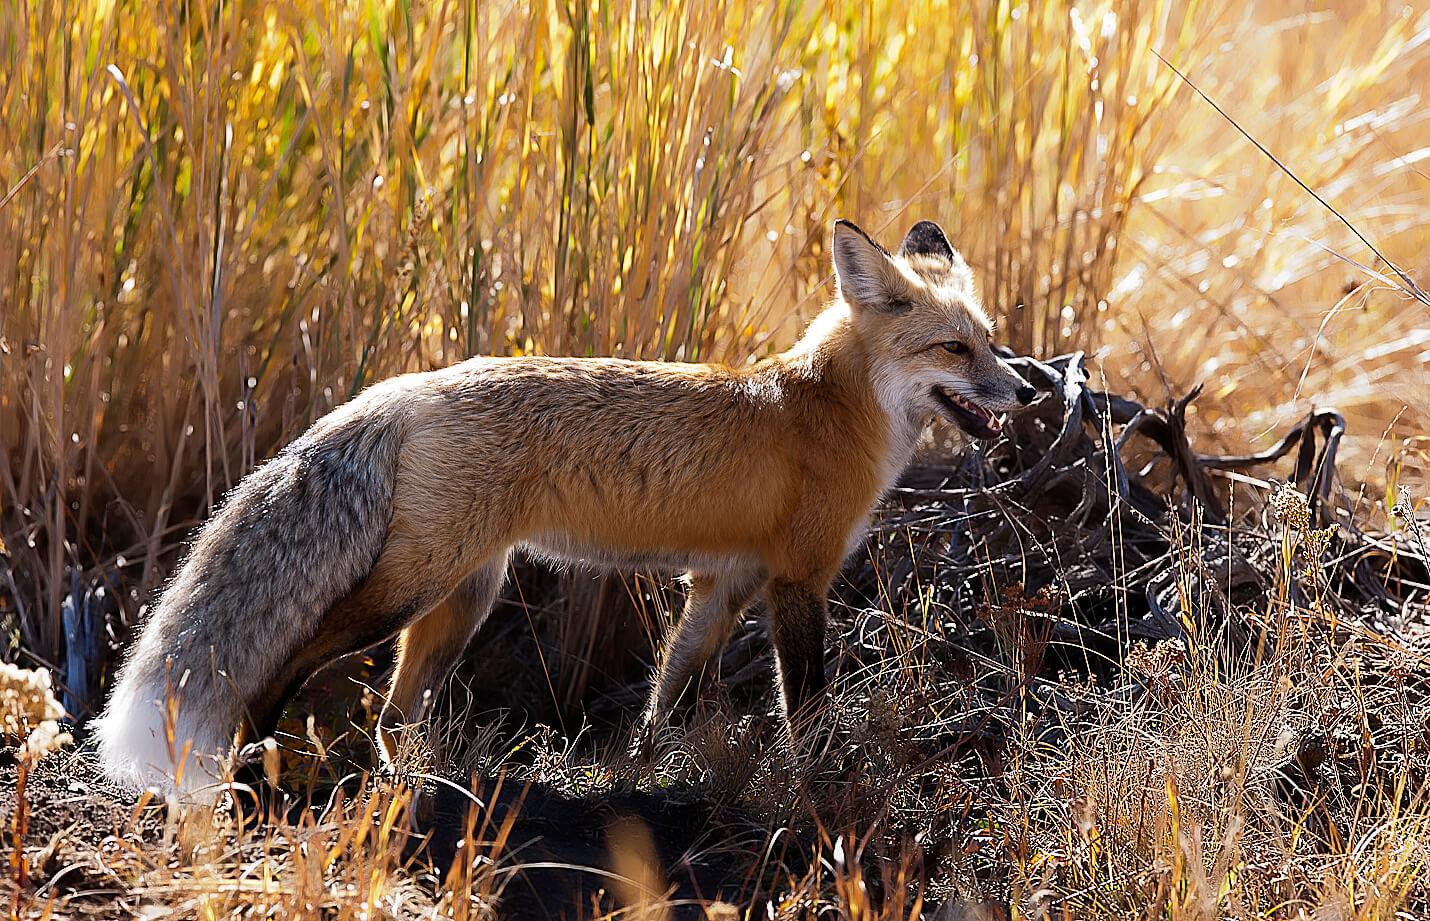fox: (44, 183, 1162, 896)
